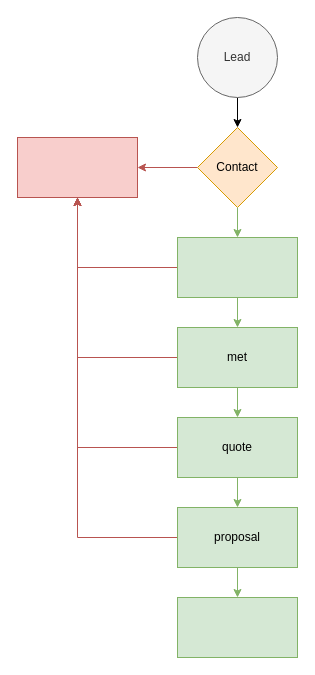
This 315x675 diagram has some shape labels left out. The box of each missing label's shape, as (x1, y1, x2, y2) in pixels:
contactSuccess: (176, 236, 298, 298)
dead: (16, 136, 138, 198)
policy: (176, 596, 298, 658)
